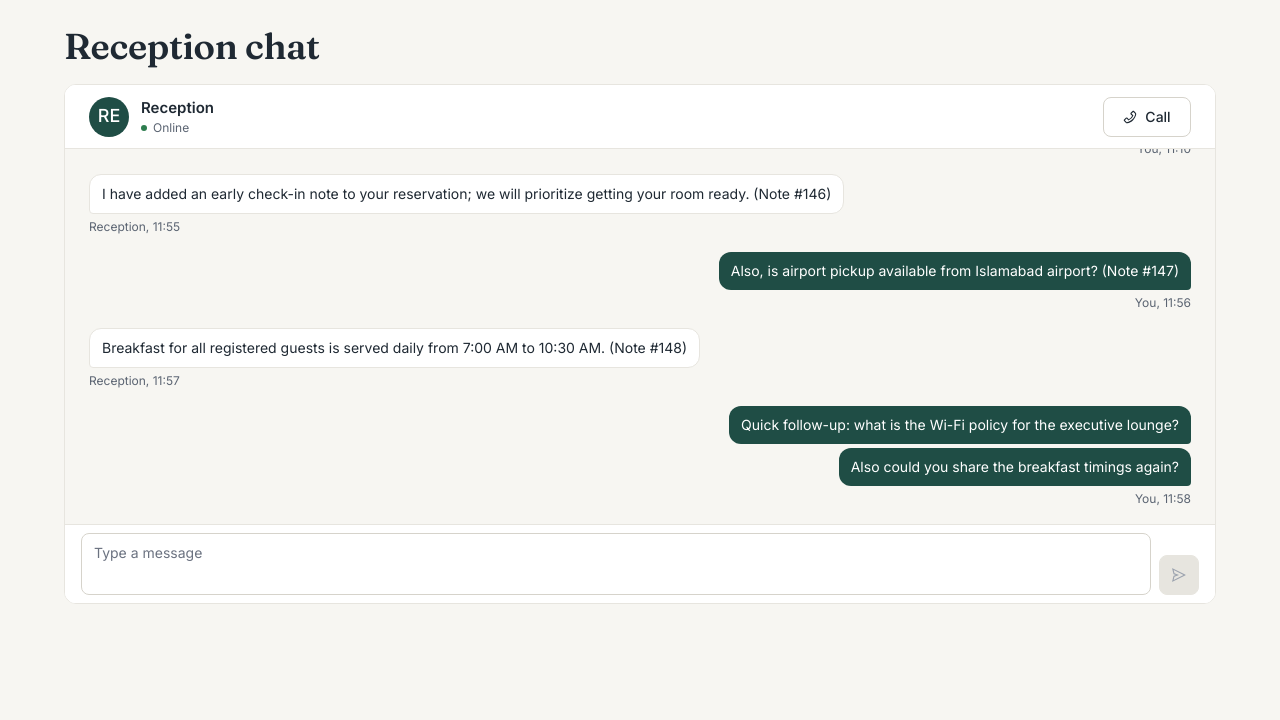
Scenario: CallPopup and call state machine › mounts DynamicCallPopup via next/dynamic in AppProviders when a logged-in user starts a call
(page scrolled)
What coordinates should you click on to do the following:
click the button "Call"
I would click on:
 (1147, 116)
Its box is [1103,96,1191,136].
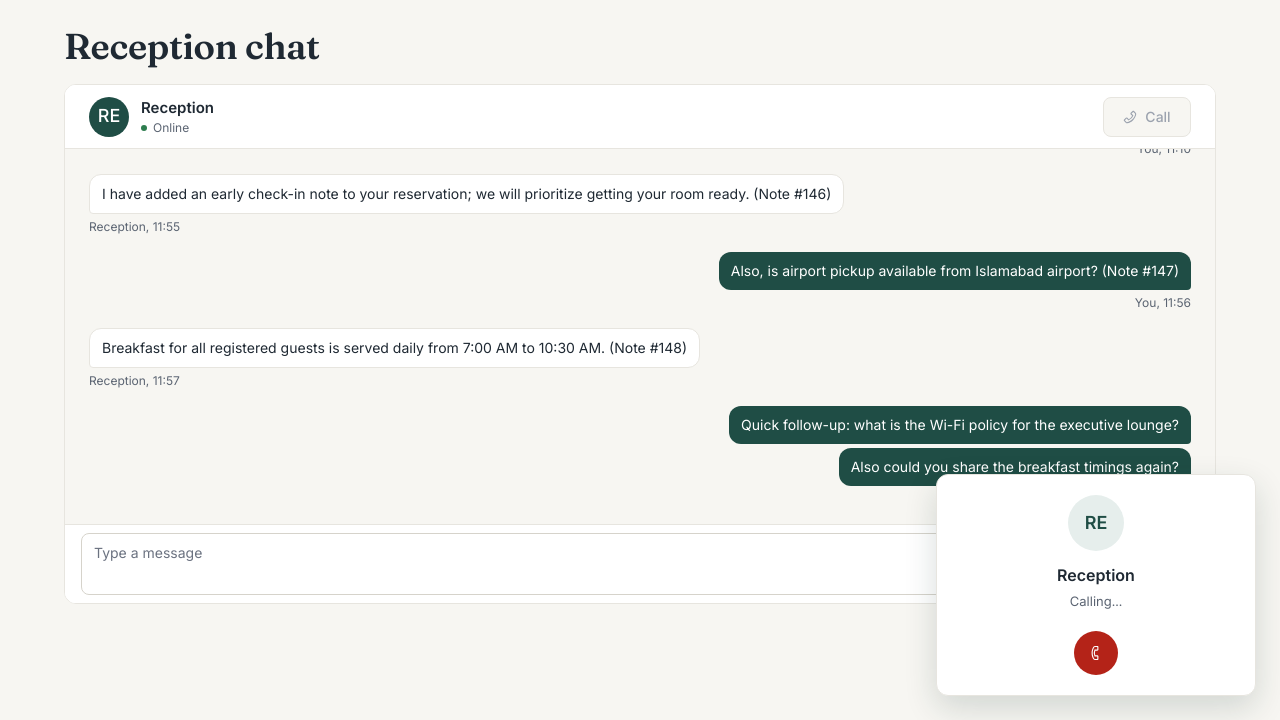
Expected: the dialog named "Audio call with Reception" is shown, [936,474,1256,696]
Expected: the message with test id "call-status-text" reads "Calling...", [1070,593,1122,609]
